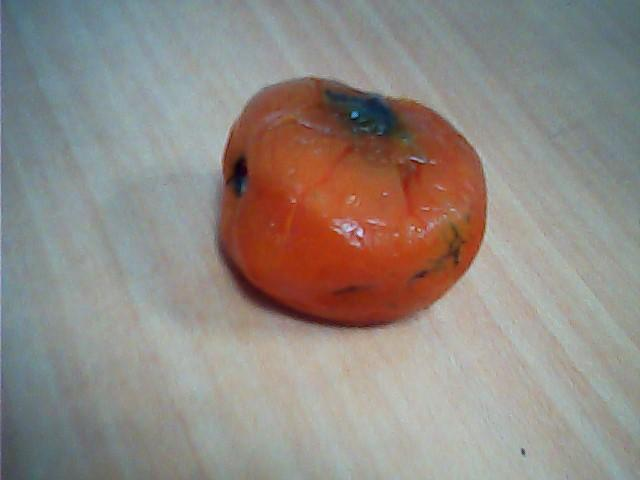defectuoso: (215, 73, 489, 327)
